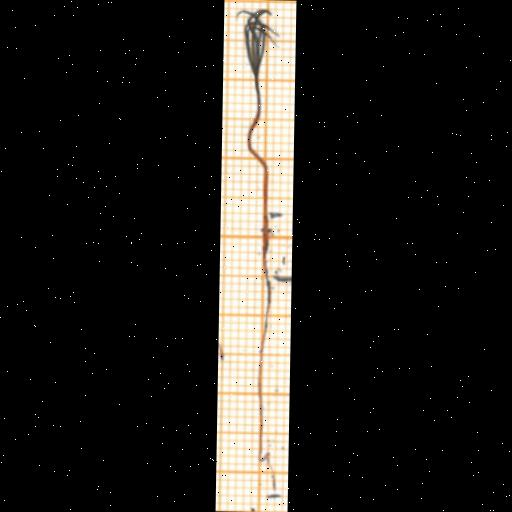flowerPinus: (239, 9, 277, 75)
rootPinus: (257, 273, 272, 461)
